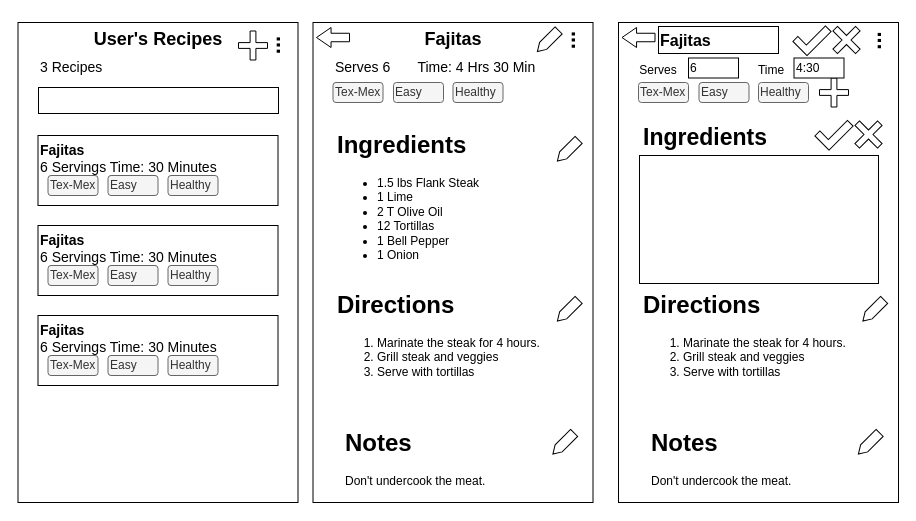
Some shapes in this 916 by 521 pixel diagram are drawn without their labels. Here are the shapes that lost their labels. From the top down, the centre of each, then its label:
At point 158,100: "Search for recipes".
At point 758,219: "1.5 lbs Flank Steak 1 Lime 2 T Olive Oil 12 Tortillas 1 Bell Pepper 1 Onion".
